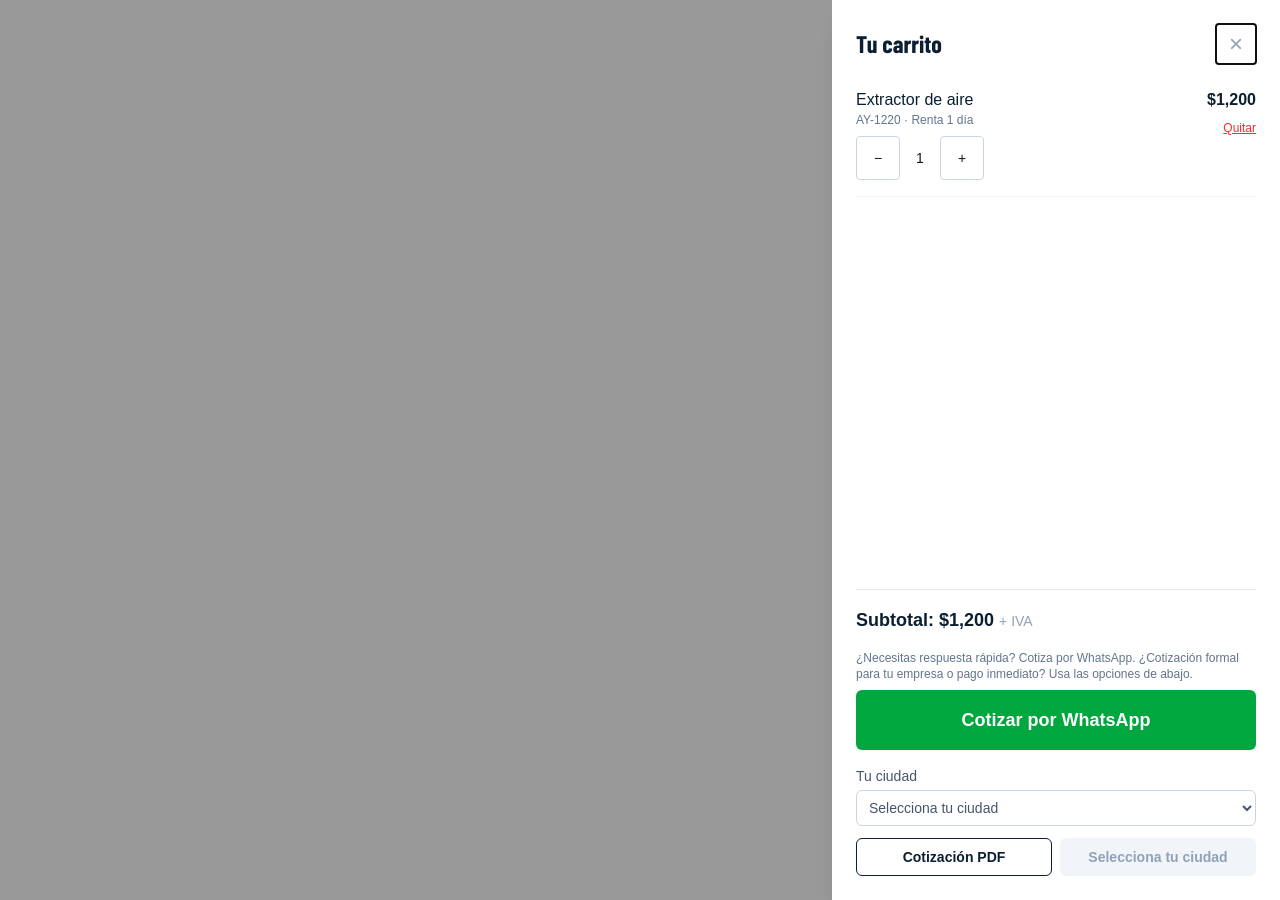
Test case: Carrito › aumenta la cantidad al presionar +
This screenshot has width=1280, height=900.
Click the button named "Aumentar cantidad de Extractor de aire".
click(962, 158)  # box [940,136,984,180]
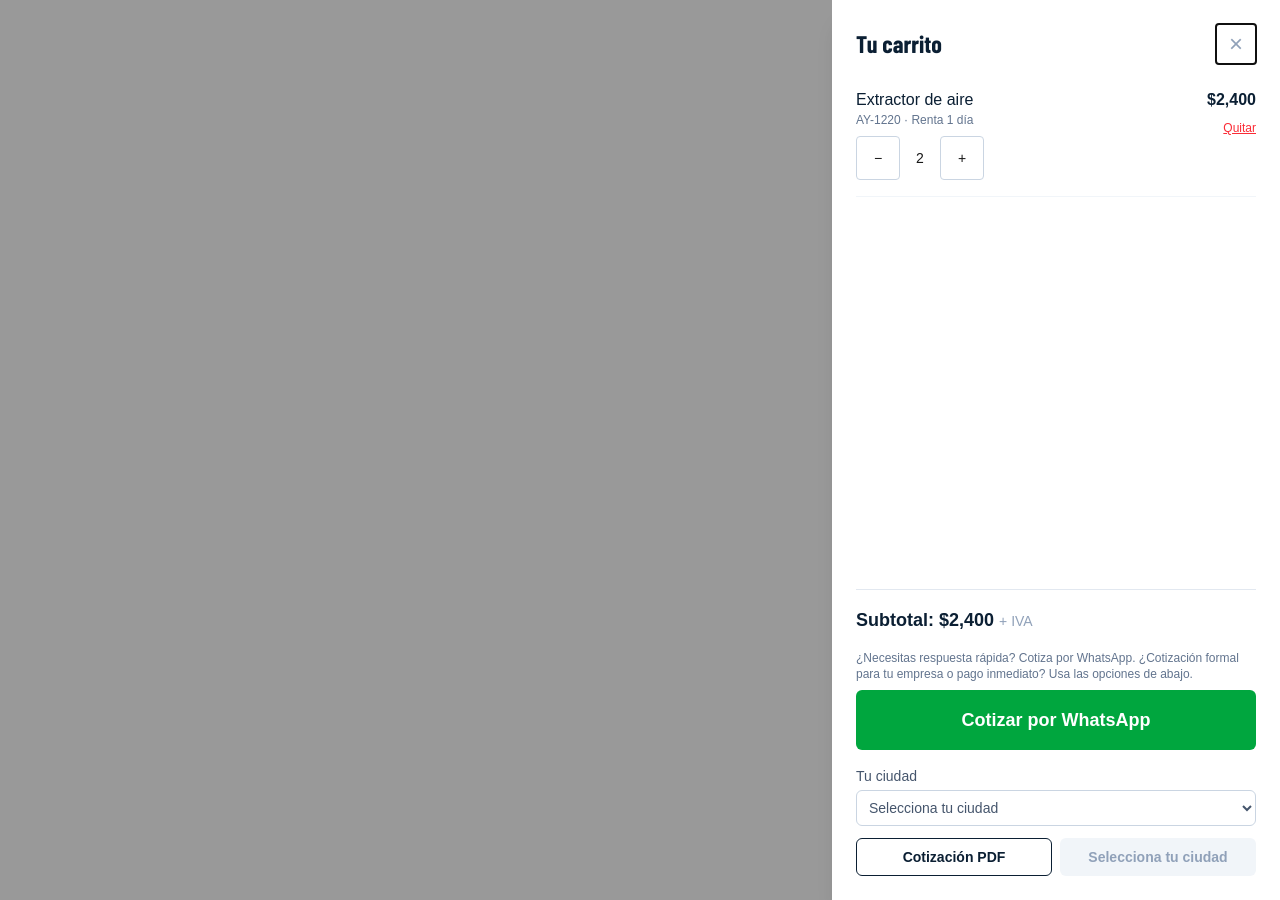
Expected: the text "2" is shown, [916,150,924,166]
